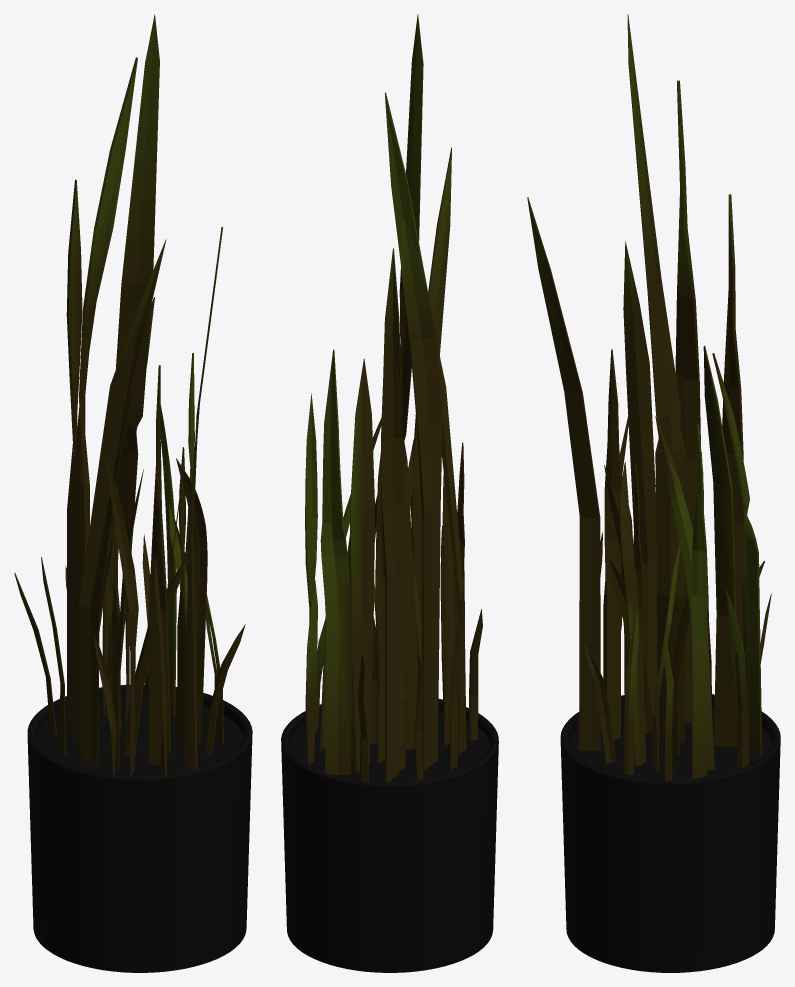
File: snakeplantdry.fbx
3 views of the same model, side by side, from view 1: azimuth 30°, elevation 25°; view 2: azimuth 150°, elevation 25°; view 3: azimuth 270°, elevation 25° (orthographic). The views are drawn at different scales.
Visible parts, largest first — view 1: snakeplant_dry; view 2: snakeplant_dry; view 3: snakeplant_dry.
Boxes of the visible parts, x1,y1,x2,y2 form: snakeplant_dry: [14, 14, 252, 972]; snakeplant_dry: [281, 14, 498, 972]; snakeplant_dry: [527, 14, 780, 972].
Bounding box in the file's own units: 13.31 × 60.79 × 15.32.
